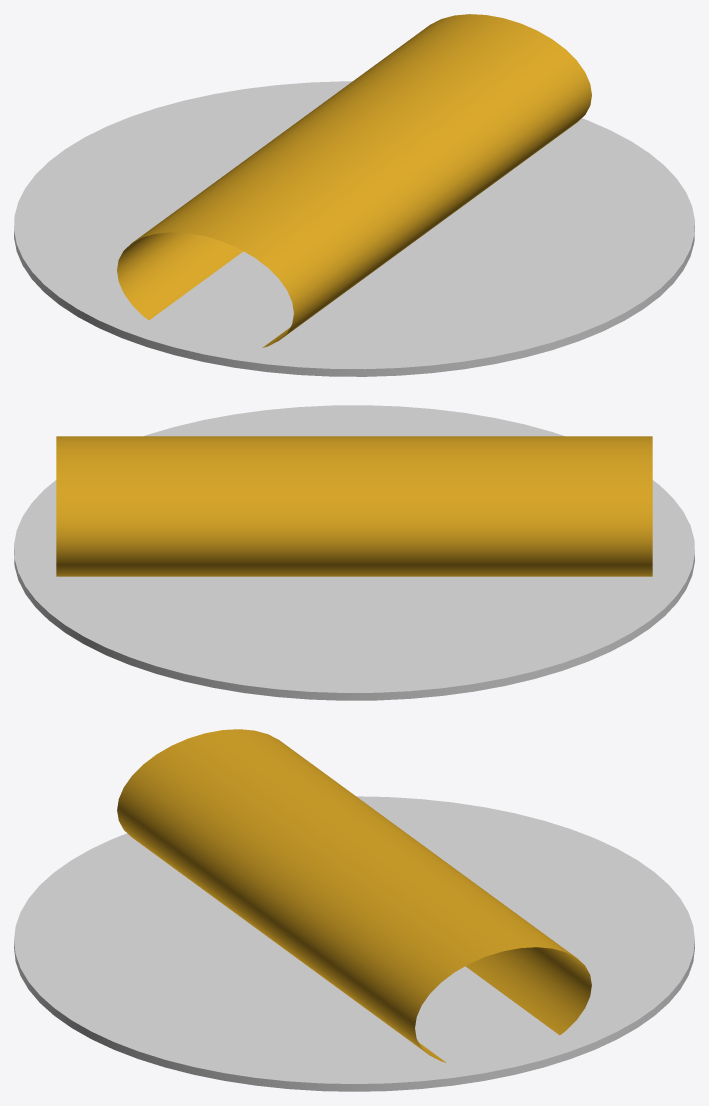
Rendered from masala_dosa.glb.
3 views of the same model, one above another, from view 1: azimuth 30°, elevation 25°; view 2: azimuth 150°, elevation 25°; view 3: azimuth 270°, elevation 25° (orthographic).
Size of the model in its own units: 8 by 1.44 by 8.
